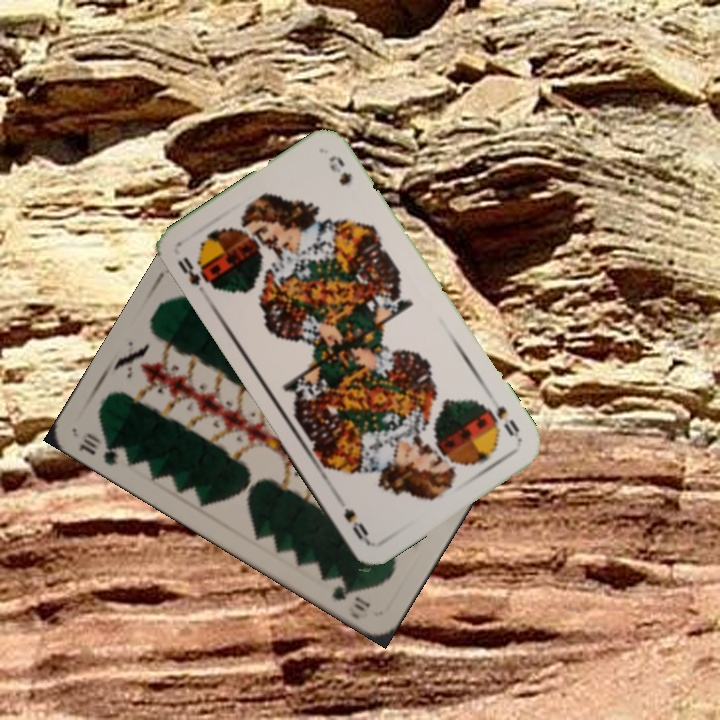G10: (75, 428, 131, 469)
SO: (173, 252, 212, 302), (483, 402, 522, 440)
